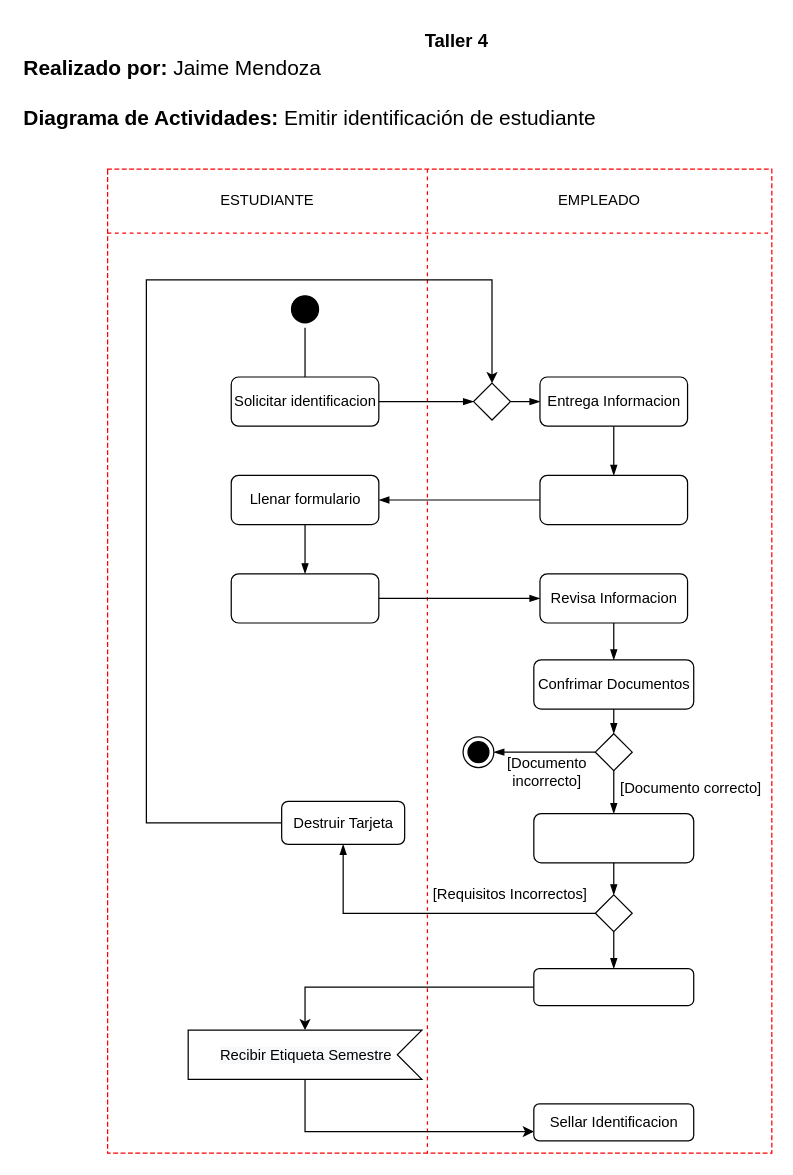
Image size: 793x1175. Some labels were removed from this diagram. The box of each missing label's shape, as (x1, y1, x2, y2) in pixels:
Crear Identificacion: (539, 474, 688, 525)
Llenar datos personales: (230, 573, 379, 623)
Revisar identificacion: (533, 812, 694, 863)
Saltar Identificacion: (533, 967, 694, 1006)
